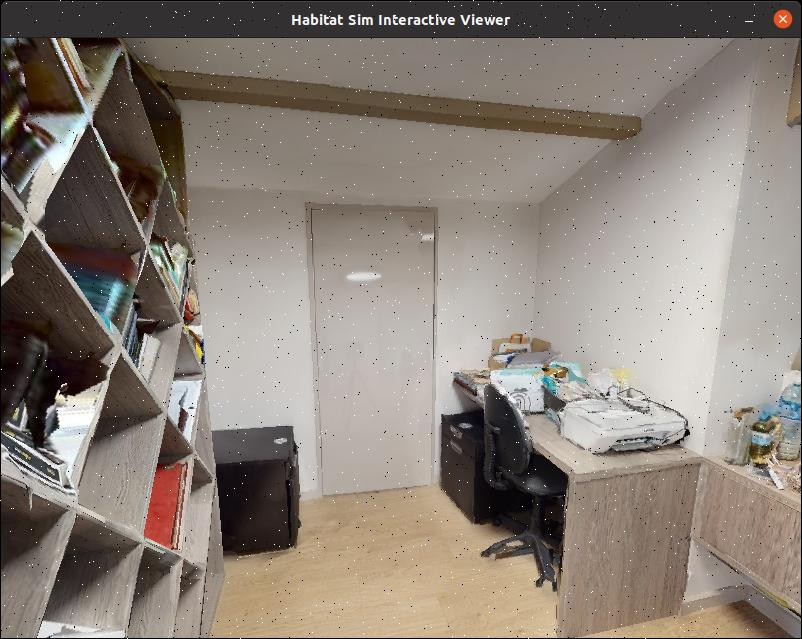chair: (455, 371, 565, 591)
door: (301, 201, 461, 503)
table: (457, 323, 696, 632)
